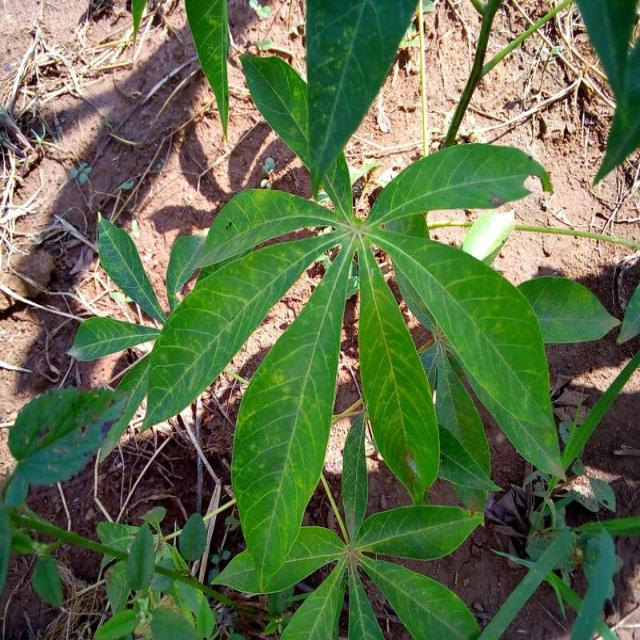cassava leaf: (4, 2, 626, 636), (370, 225, 566, 482), (228, 234, 355, 593), (138, 226, 342, 433), (355, 232, 441, 502)
